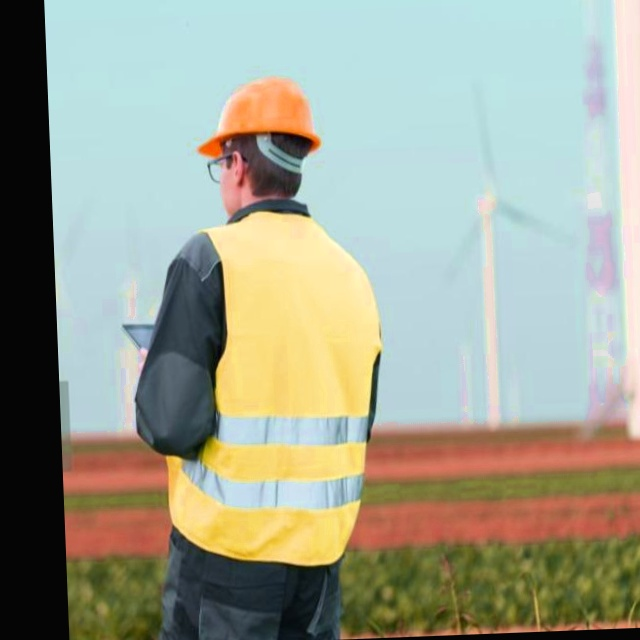Con_Casco: (192, 76, 319, 217)
Con_Chaleco: (155, 210, 390, 551)
